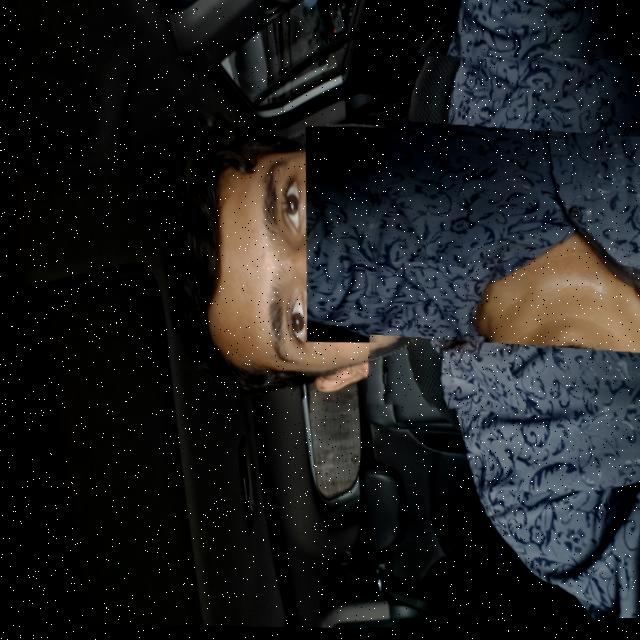no-seatbelt: (348, 49, 640, 433)
